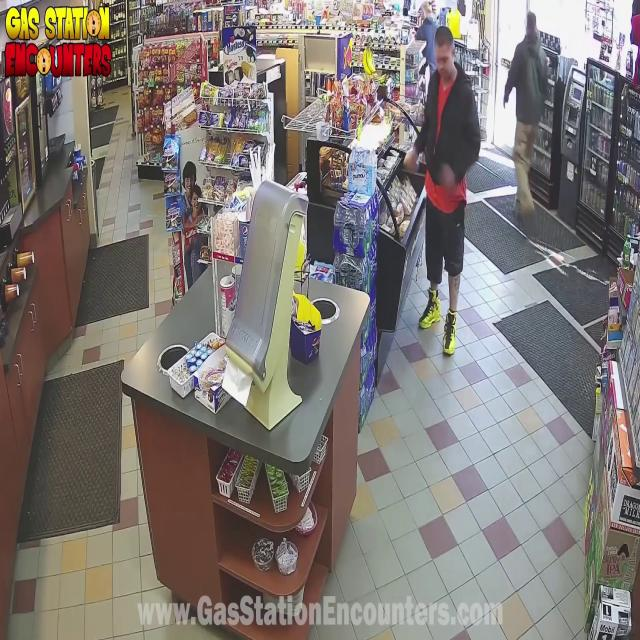Product: (399, 147, 420, 182)
normal: (485, 0, 578, 284)
shoplifting: (392, 19, 486, 372)
